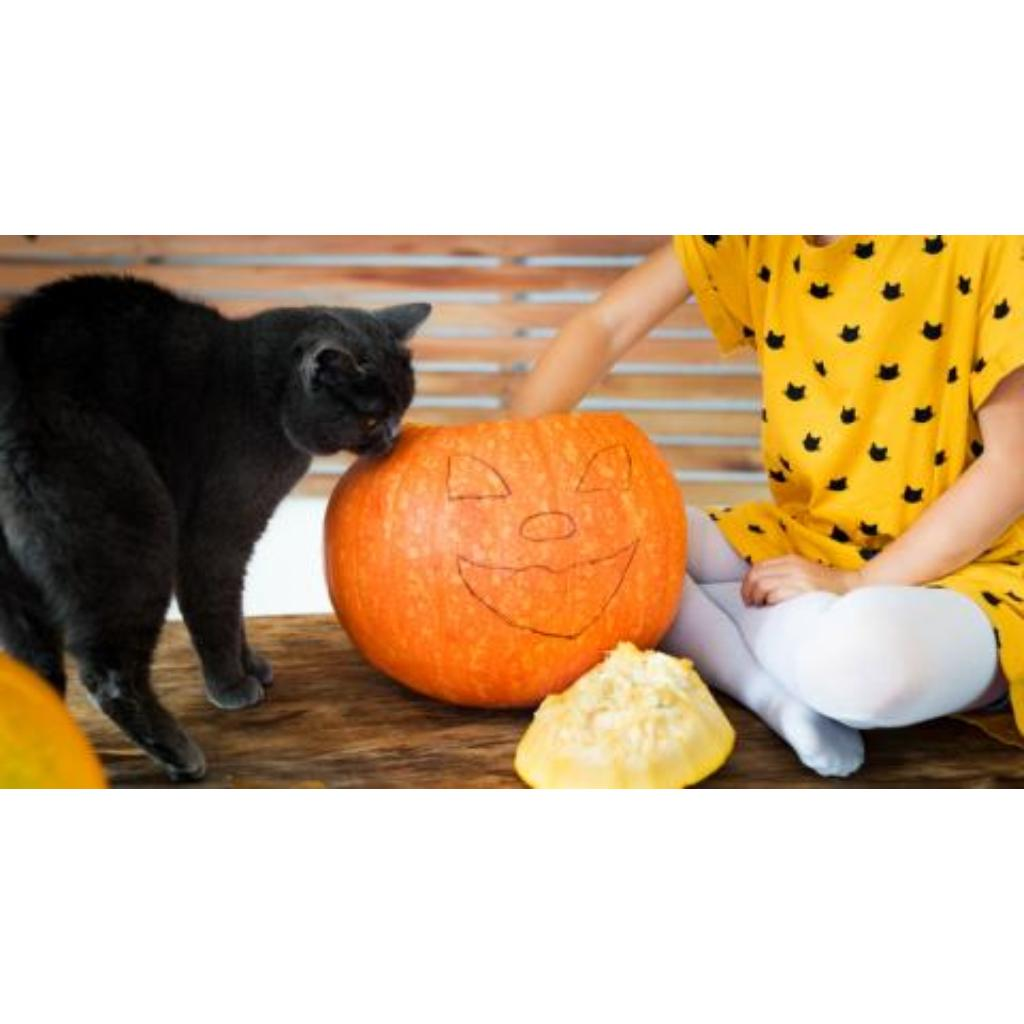pumpkin: (326, 415, 686, 707)
